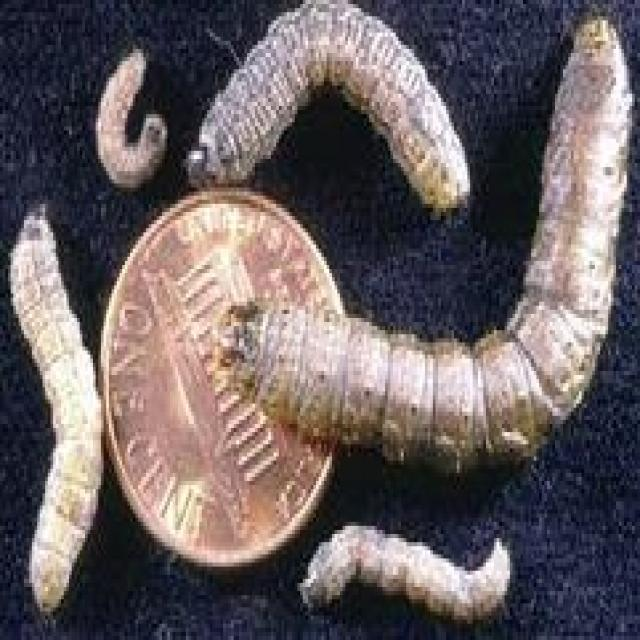black cutworm: (223, 20, 629, 456), (195, 3, 482, 219), (12, 191, 118, 619), (288, 502, 527, 625), (87, 44, 186, 186)
